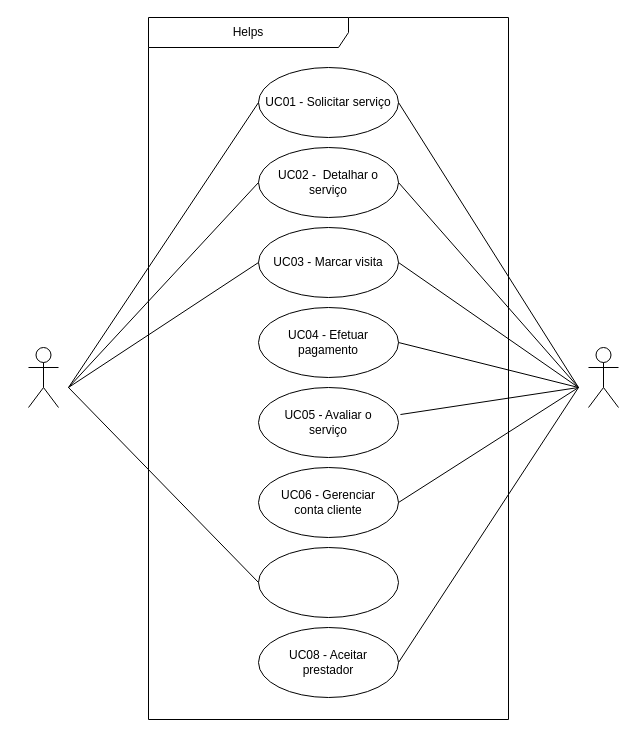
Image size: 639x737. Some labels were removed from this diagram. The shapes that lost their labels are listed below. From the top down, each one's centre as x and y in pixels, then its label:
[43,377]: Prestador
[603,377]: Cliente
[328,582]: UC07 - Gerenciar conta prestador
